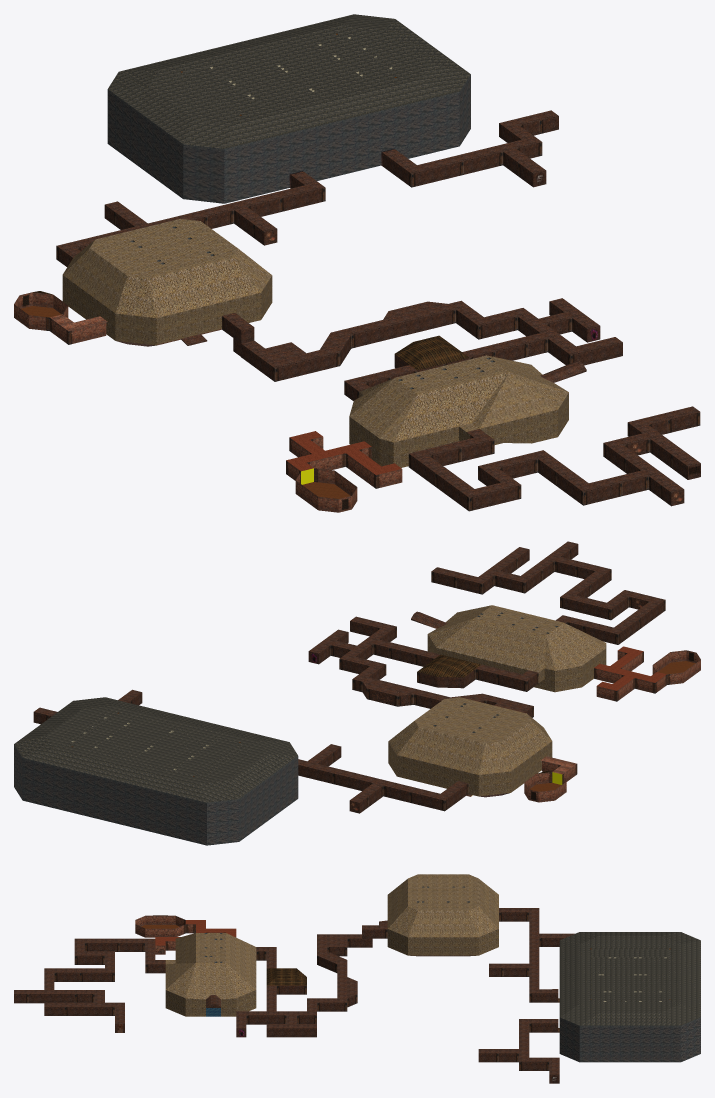
File: D05.Blv.obj
3 views of the same model, one above another, from view 1: azimuth 30°, elevation 25°; view 2: azimuth 150°, elevation 25°; view 3: azimuth 270°, elevation 25° (orthographic). The views are drawn at different scales.
Parts seen in each view (by area): view 1: Room26, Room20, Room5, Room10, Room28, Room27, Room17, Room21, Room22, Room9, Room19, Room23 (+18 smaller); view 2: Room26, Room20, Room5, Room10, Room28, Room17, Room22, Room21, Room9, Room6, Room23, Room3 (+12 smaller); view 3: Room26, Room20, Room5, Room10, Room28, Room22, Room9, Room23, Room27, Room21, Room3, Room12 (+13 smaller).
Part boxes in pixels (bbox=[...]): Room26: bbox=[107, 14, 470, 203]; Room20: bbox=[62, 218, 272, 346]; Room5: bbox=[349, 355, 586, 467]; Room10: bbox=[344, 333, 547, 400]; Room28: bbox=[70, 171, 325, 250]; Room27: bbox=[381, 136, 542, 187]; Room17: bbox=[331, 301, 455, 348]; Room21: bbox=[538, 455, 648, 505]; Room22: bbox=[603, 433, 684, 506]; Room9: bbox=[295, 468, 357, 512]; Room19: bbox=[252, 342, 313, 381]; Room23: bbox=[627, 419, 700, 479]; Room26: bbox=[14, 697, 298, 845]; Room20: bbox=[388, 697, 552, 797]; Room5: bbox=[411, 605, 606, 692]; Room10: bbox=[373, 639, 538, 691]; Room28: bbox=[298, 759, 440, 808]; Room17: bbox=[362, 677, 450, 708]; Room22: bbox=[494, 541, 578, 593]; Room21: bbox=[554, 557, 611, 597]; Room9: bbox=[652, 650, 700, 684]; Room6: bbox=[594, 664, 666, 693]; Room23: bbox=[472, 547, 529, 594]; Room3: bbox=[608, 601, 659, 644]; Room26: bbox=[559, 932, 700, 1062]; Room20: bbox=[379, 874, 498, 956]; Room5: bbox=[155, 933, 256, 1016]; Room10: bbox=[256, 947, 306, 1011]; Room28: bbox=[529, 912, 559, 1002]; Room22: bbox=[14, 990, 104, 1003]; Room9: bbox=[135, 915, 185, 937]; Room23: bbox=[44, 1002, 124, 1015]; Room27: bbox=[519, 1019, 559, 1070]; Room21: bbox=[44, 968, 104, 989]; Room3: bbox=[84, 938, 155, 951]; Room12: bbox=[236, 1011, 316, 1024].
Size of the model in its own units: 11776 by 1712 by 17408.
Materials: 44 (44 with a texture image).
